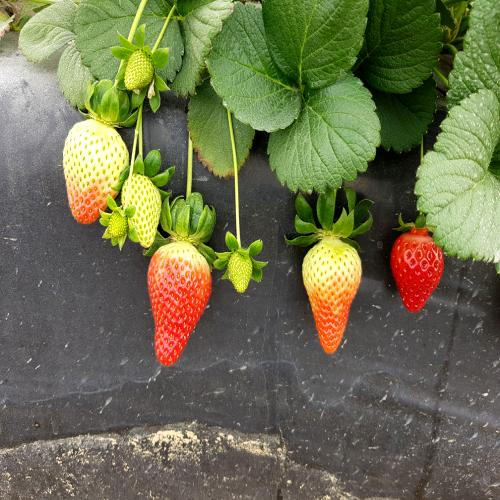partially-ripe: (149, 232, 211, 366), (299, 230, 363, 354), (64, 122, 128, 225)
ripe: (388, 219, 448, 321)
